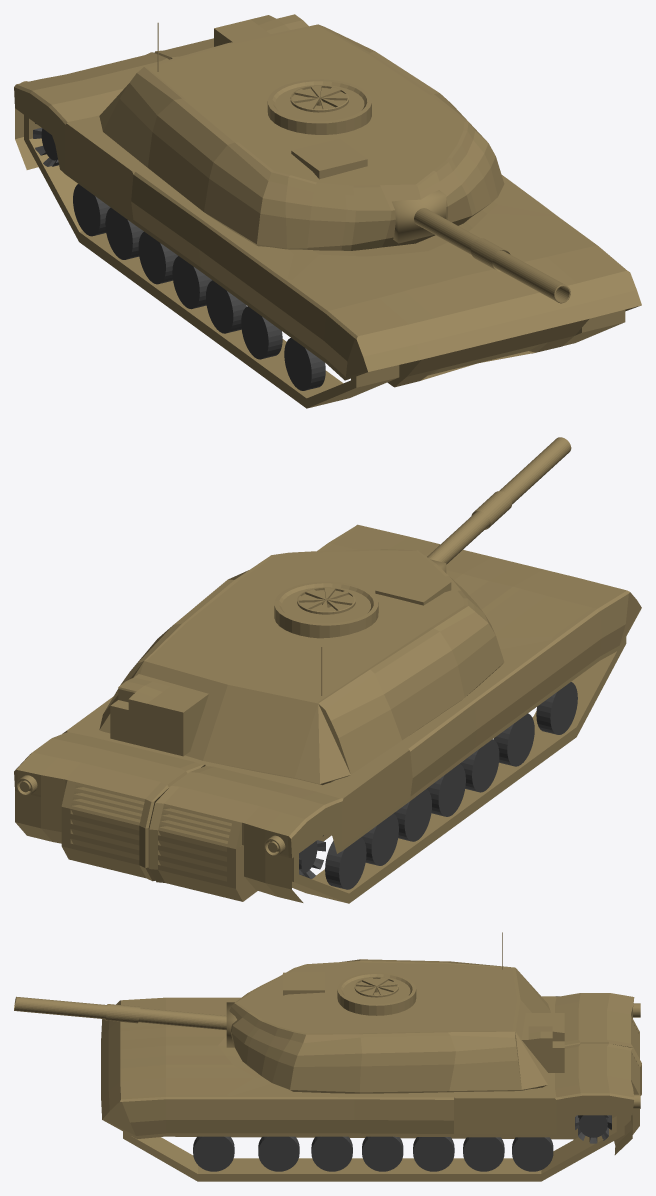
Rendered from Tank3.fbx.
3 views of the same model, one above another, from view 1: azimuth 30°, elevation 25°; view 2: azimuth 150°, elevation 25°; view 3: azimuth 270°, elevation 25° (orthographic). The views are drawn at different scales.
Parts seen in each view (by area): view 1: Plane.001, Plane.000, Cube.004, Cylinder, Cube.001, Cube, Cylinder.017, Cylinder.016, Cylinder.015, Cylinder.014, Cylinder.013, Cylinder.012 (+3 smaller); view 2: Plane.001, Plane.000, Cube.004, Cube, Cylinder, Cylinder.011, Cylinder.017, Cylinder.016, Cylinder.015, Cylinder.014, Cylinder.013, Cylinder.012 (+1 smaller); view 3: Plane.001, Plane.000, Cube.003, Cylinder, Cube, Cylinder.010, Cylinder.008, Cylinder.009, Cylinder.007, Cylinder.005, Cylinder.006, Cylinder.004 (+1 smaller).
Part boxes in pixels (bbox=[...]): Plane.001: bbox=[14, 38, 641, 387]; Plane.000: bbox=[99, 22, 504, 250]; Cube.004: bbox=[24, 115, 399, 408]; Cylinder: bbox=[414, 208, 570, 303]; Cube.001: bbox=[392, 190, 446, 243]; Cube: bbox=[214, 14, 308, 46]; Cylinder.017: bbox=[284, 338, 325, 390]; Cylinder.016: bbox=[241, 306, 282, 359]; Cylinder.015: bbox=[206, 280, 246, 333]; Cylinder.014: bbox=[172, 256, 212, 309]; Cylinder.013: bbox=[138, 231, 177, 284]; Cylinder.012: bbox=[105, 207, 143, 259]; Plane.001: bbox=[14, 524, 641, 902]; Plane.000: bbox=[99, 549, 504, 785]; Cube.004: bbox=[292, 637, 626, 903]; Cube: bbox=[110, 674, 208, 756]; Cylinder: bbox=[427, 437, 571, 564]; Cylinder.011: bbox=[325, 837, 366, 889]; Cylinder.017: bbox=[536, 682, 577, 734]; Cylinder.016: bbox=[494, 713, 534, 766]; Cylinder.015: bbox=[460, 739, 499, 792]; Cylinder.014: bbox=[427, 764, 465, 816]; Cylinder.013: bbox=[394, 789, 431, 841]; Cylinder.012: bbox=[361, 813, 398, 865]; Plane.001: bbox=[101, 993, 641, 1154]; Plane.000: bbox=[229, 932, 550, 1093]; Cube.003: bbox=[123, 1115, 624, 1181]; Cylinder: bbox=[14, 996, 226, 1030]; Cube: bbox=[521, 1013, 564, 1072]; Cylinder.010: bbox=[193, 1136, 234, 1171]; Cylinder.008: bbox=[311, 1136, 352, 1171]; Cylinder.009: bbox=[258, 1136, 299, 1171]; Cylinder.007: bbox=[362, 1136, 403, 1171]; Cylinder.005: bbox=[463, 1137, 504, 1171]; Cylinder.006: bbox=[413, 1137, 454, 1171]; Cylinder.004: bbox=[512, 1137, 553, 1171].
Size of the model in its own units: 986 by 754 by 2524.
